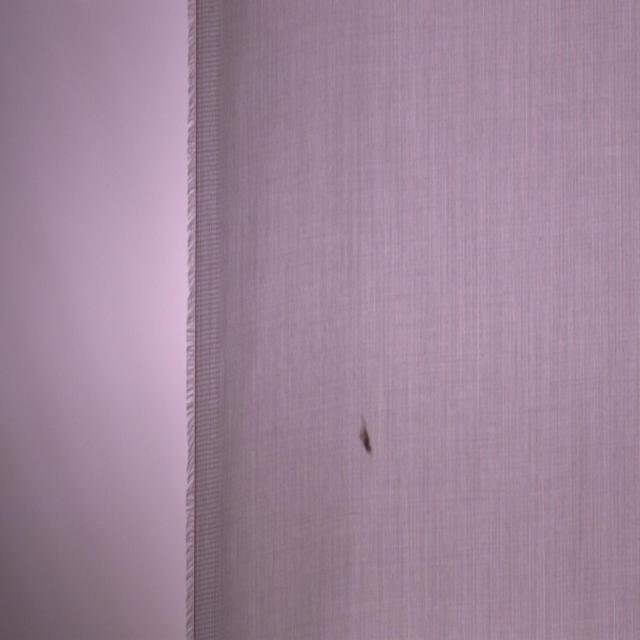dirty: (358, 411, 372, 453)
